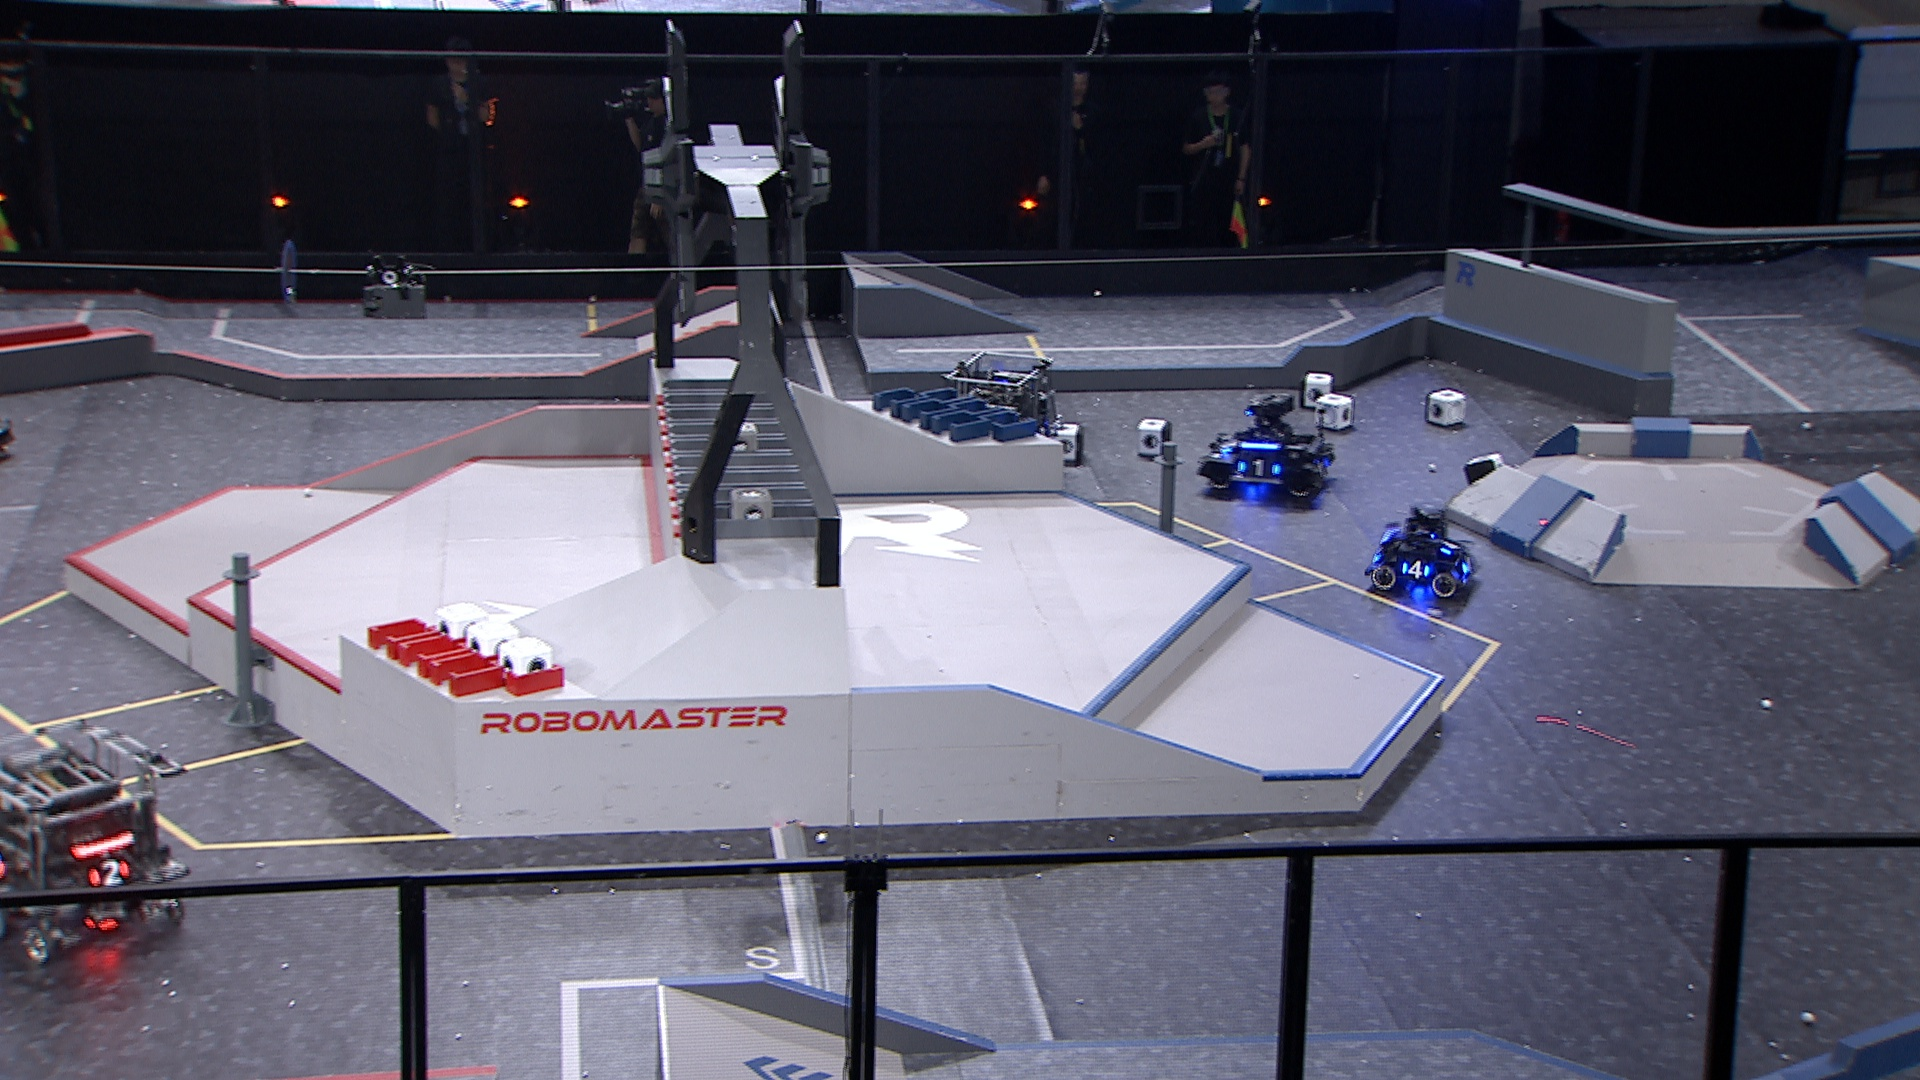armor: (88, 855, 128, 887), (1399, 559, 1428, 582), (1240, 460, 1276, 477), (1216, 434, 1238, 458), (1439, 535, 1462, 556), (1461, 556, 1477, 574)
car: (942, 342, 1069, 484), (1196, 392, 1338, 504), (1366, 500, 1480, 597)
